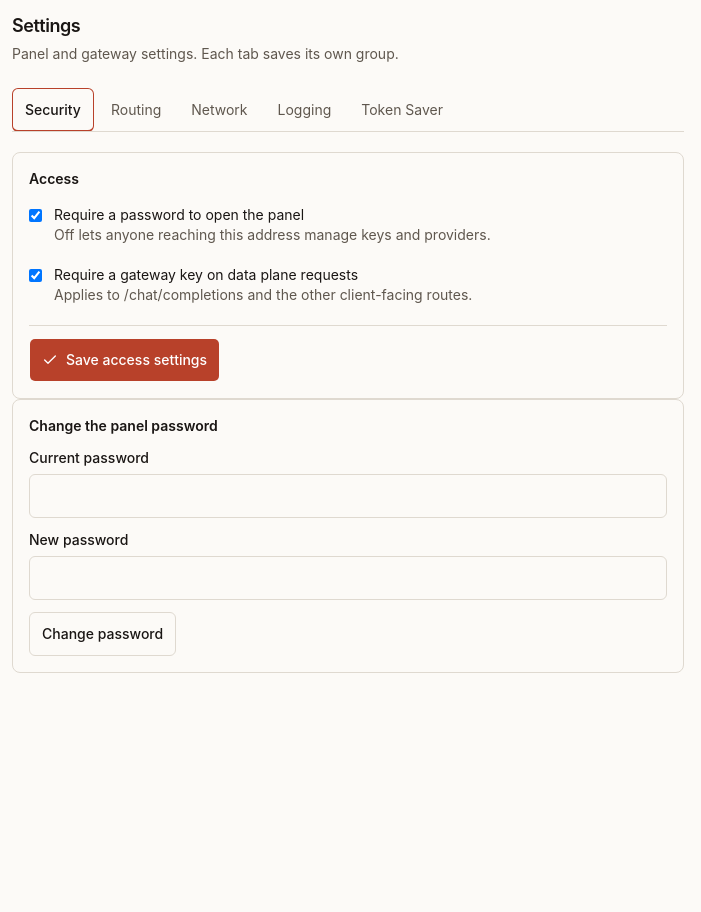
Test: SettingsPage › puts the draft back on the loaded value when Discard is pressed
expect the element showing "Security Routing Network Logging Token Saver" is shown: met, box [12, 88, 684, 132]
Click the tab "Routing" at (136, 110), box [98, 88, 174, 132]
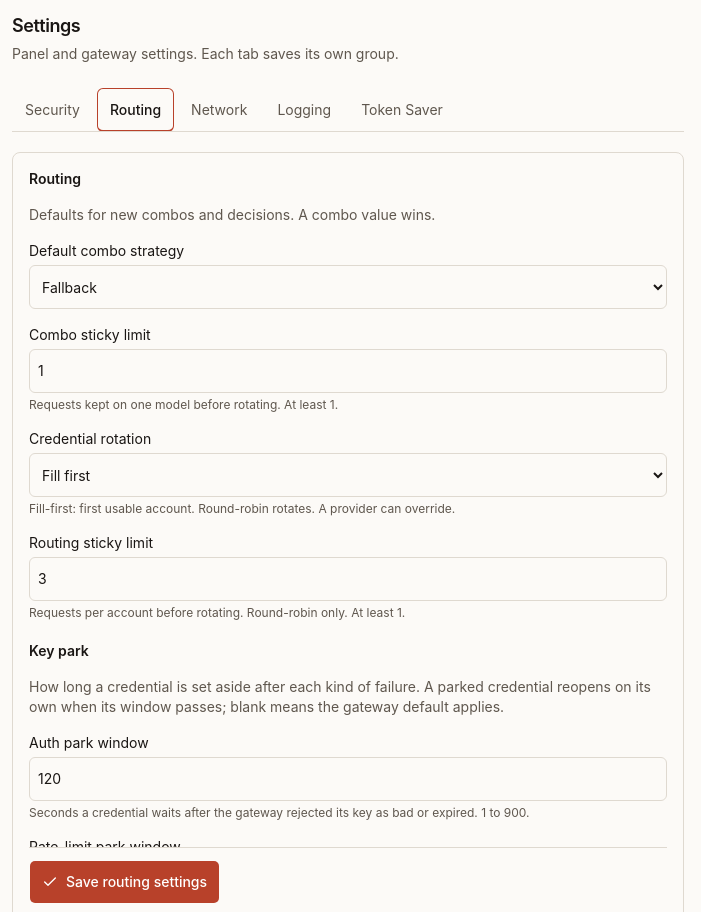
Replace the text in the number field labelled "Routing sticky limit" with "9" at (348, 579), box [29, 557, 667, 601]
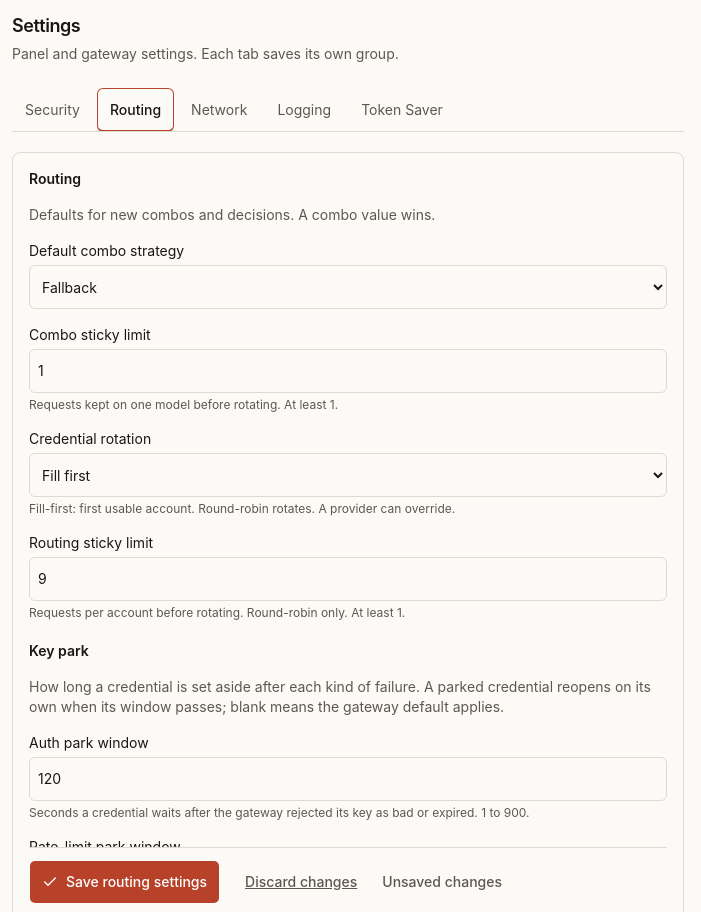
expect the text "Unsaved changes" is shown: met, box [382, 872, 502, 892]
Click the button "Discard changes" at (301, 882), box [232, 860, 370, 904]
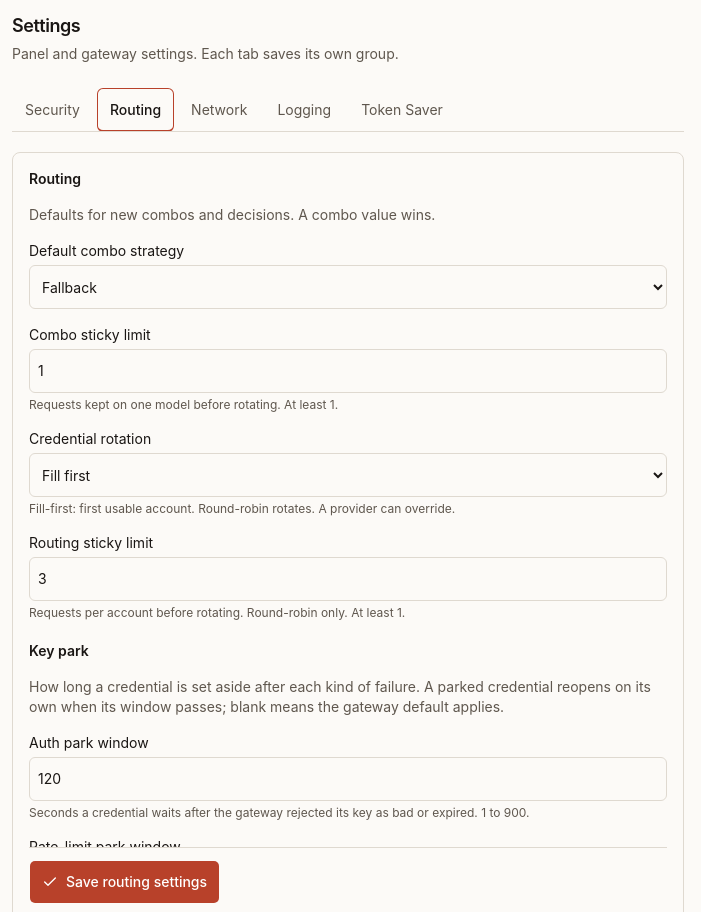
expect the number field labelled "Routing sticky limit" holds "3": met, box [29, 557, 667, 601]
expect the text "Unsaved changes" is gone: met
